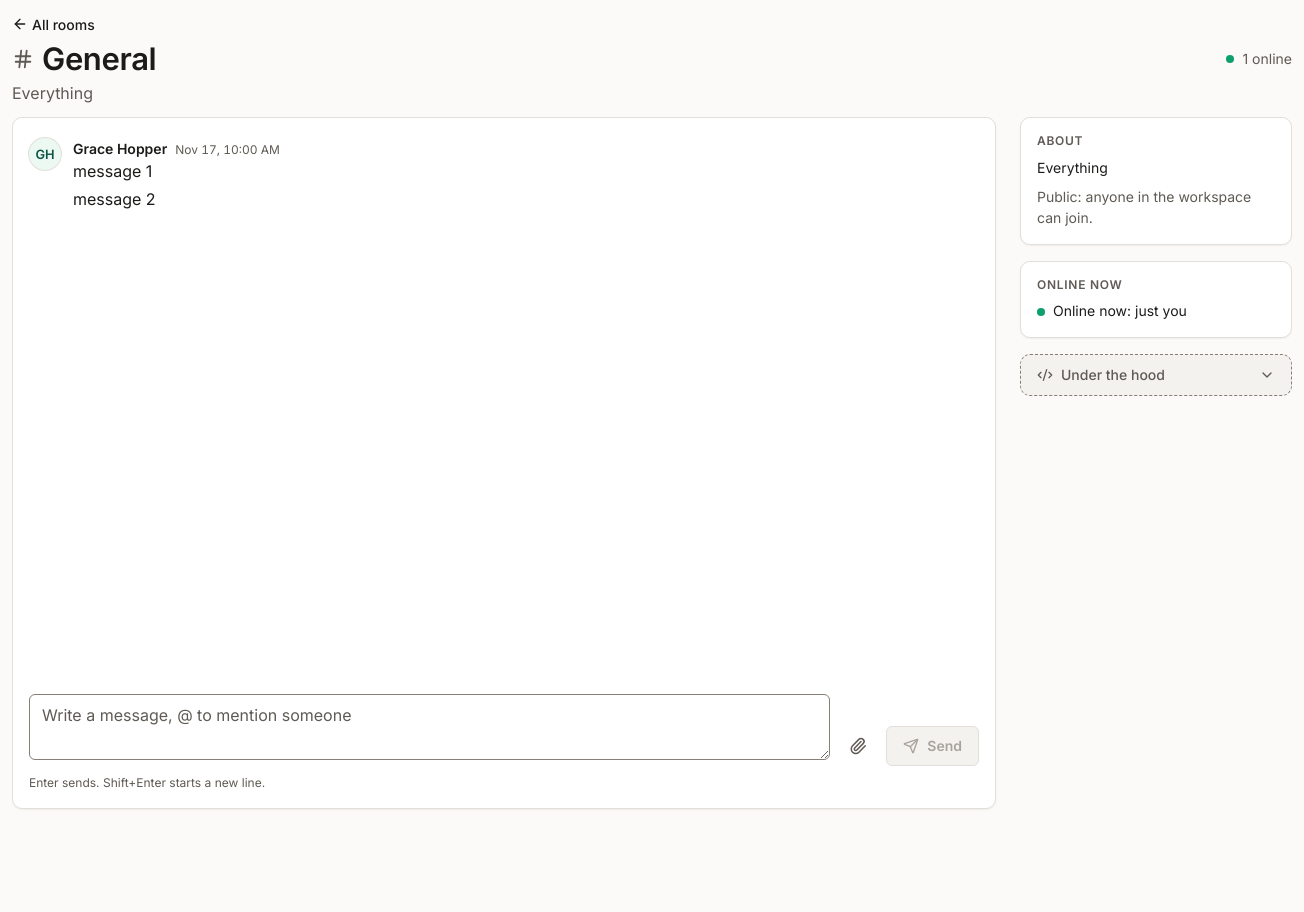
ChatPage: rooms › opening a room loads its messages, marks it read and clears its count (seen back in the browser)
The image size is (1304, 912).
Expected: the text "message 2" is shown, [73, 189, 156, 209]
Expected: the heading "General" is shown, [12, 40, 156, 77]
Step 1. Click the link "All rooms" → [53, 24], box [12, 12, 95, 36]
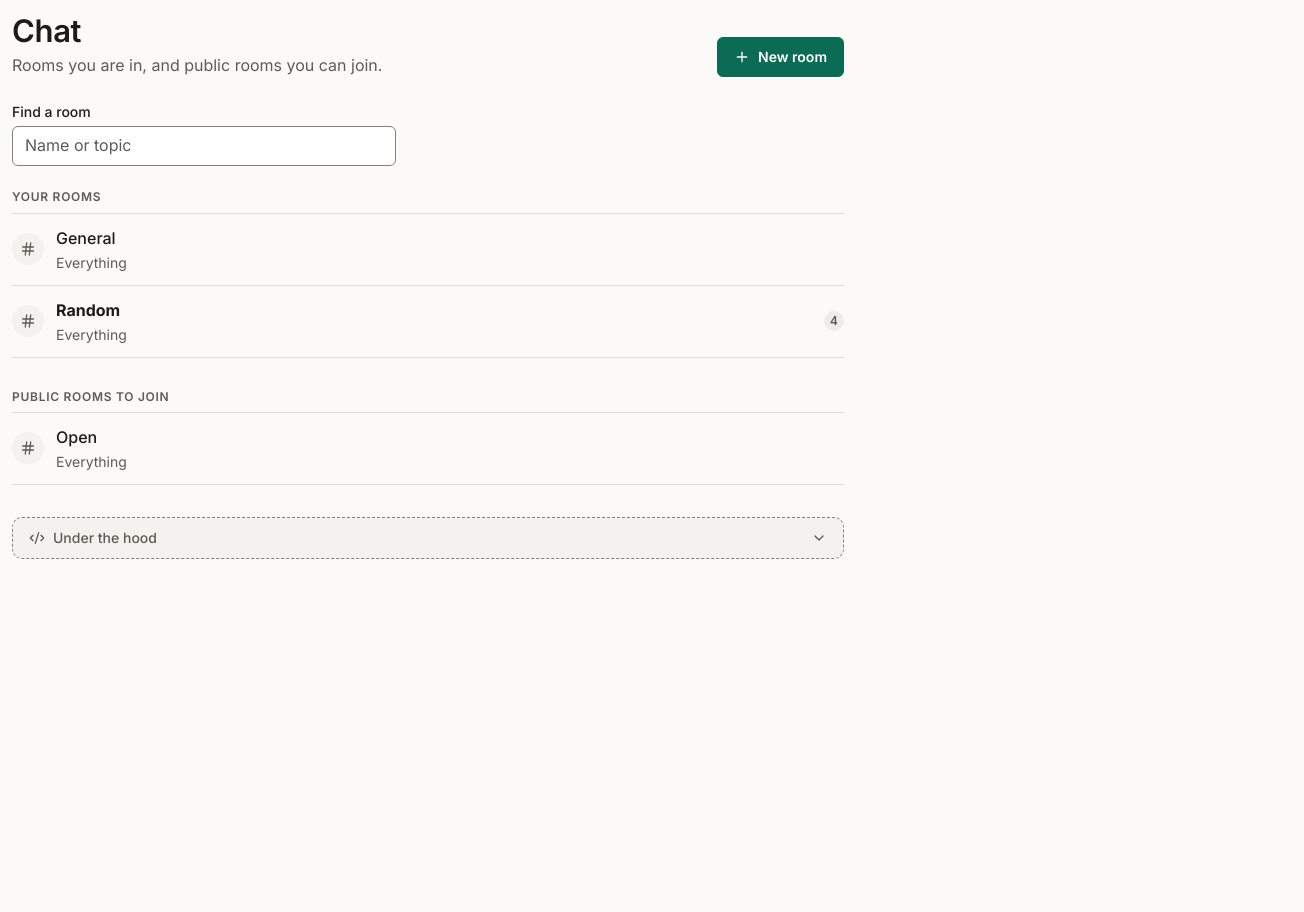
Expected: the link "General" is shown, [56, 228, 116, 248]
Expected: the link "Random" is shown, [56, 299, 198, 320]
